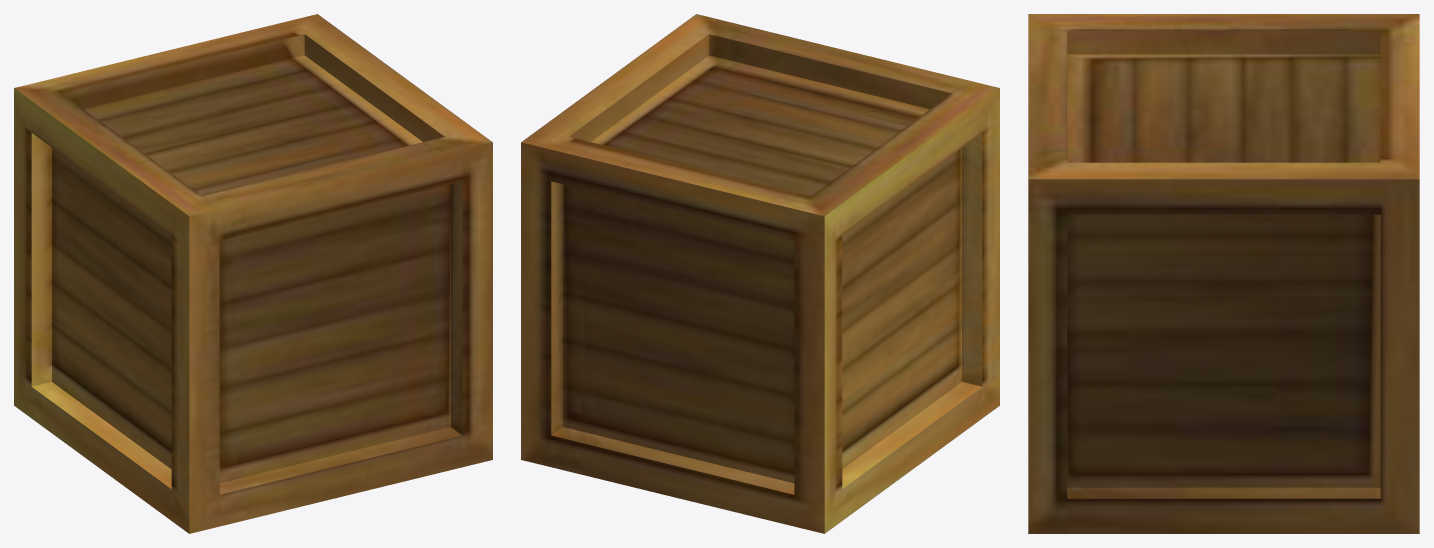
Rendered from exportingtest.FBX.
3 renders of one model, left to right at view 1: azimuth 30°, elevation 25°; view 2: azimuth 150°, elevation 25°; view 3: azimuth 270°, elevation 25°, orthographic. The views are drawn at different scales.
Visible parts, largest first — view 1: CrateUVTest; view 2: CrateUVTest; view 3: CrateUVTest.
Boxes of the visible parts, x1=… form: CrateUVTest: x1=14, y1=14, x2=492, y2=533; CrateUVTest: x1=521, y1=14, x2=999, y2=533; CrateUVTest: x1=1028, y1=14, x2=1419, y2=533.
Bounding box in the file's own units: 30 × 30 × 30.
